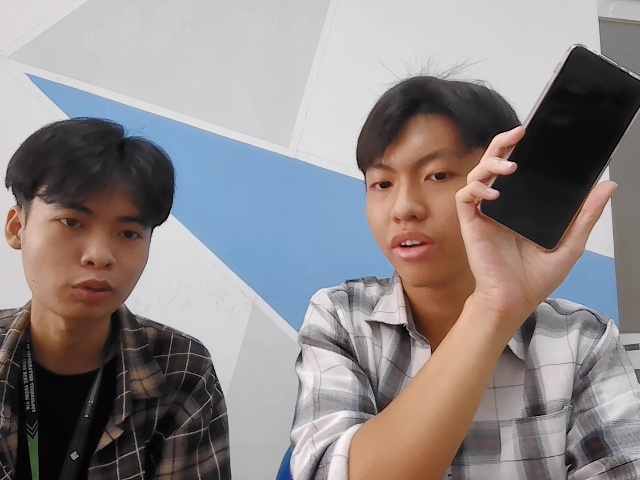human: (355, 75, 534, 286), (3, 115, 171, 313)
phone: (486, 34, 640, 256)
